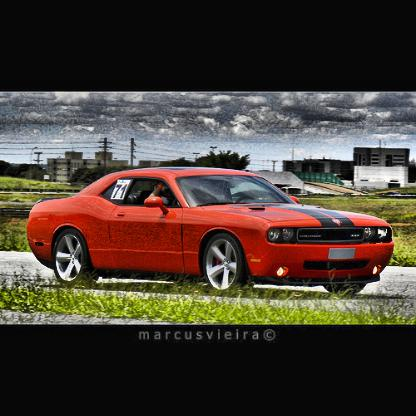Dodge Challenger SRT8 2011: (27, 164, 398, 296)
